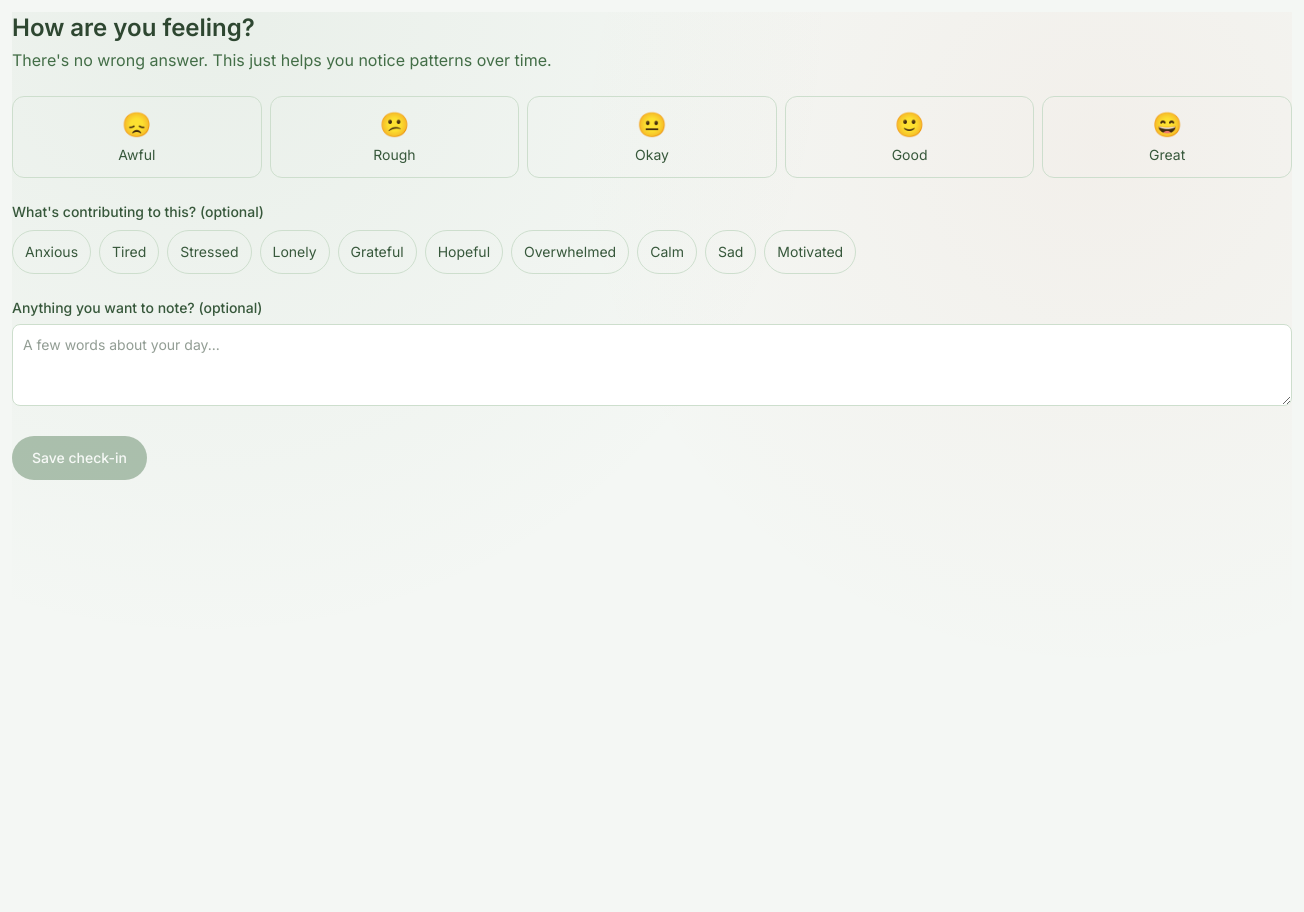
Test: CheckIn page › lets a user log a mood and saves it to the store
The image size is (1304, 912).
Click the radio button labelled "😐 Okay": (652, 137) [527, 96, 777, 178]
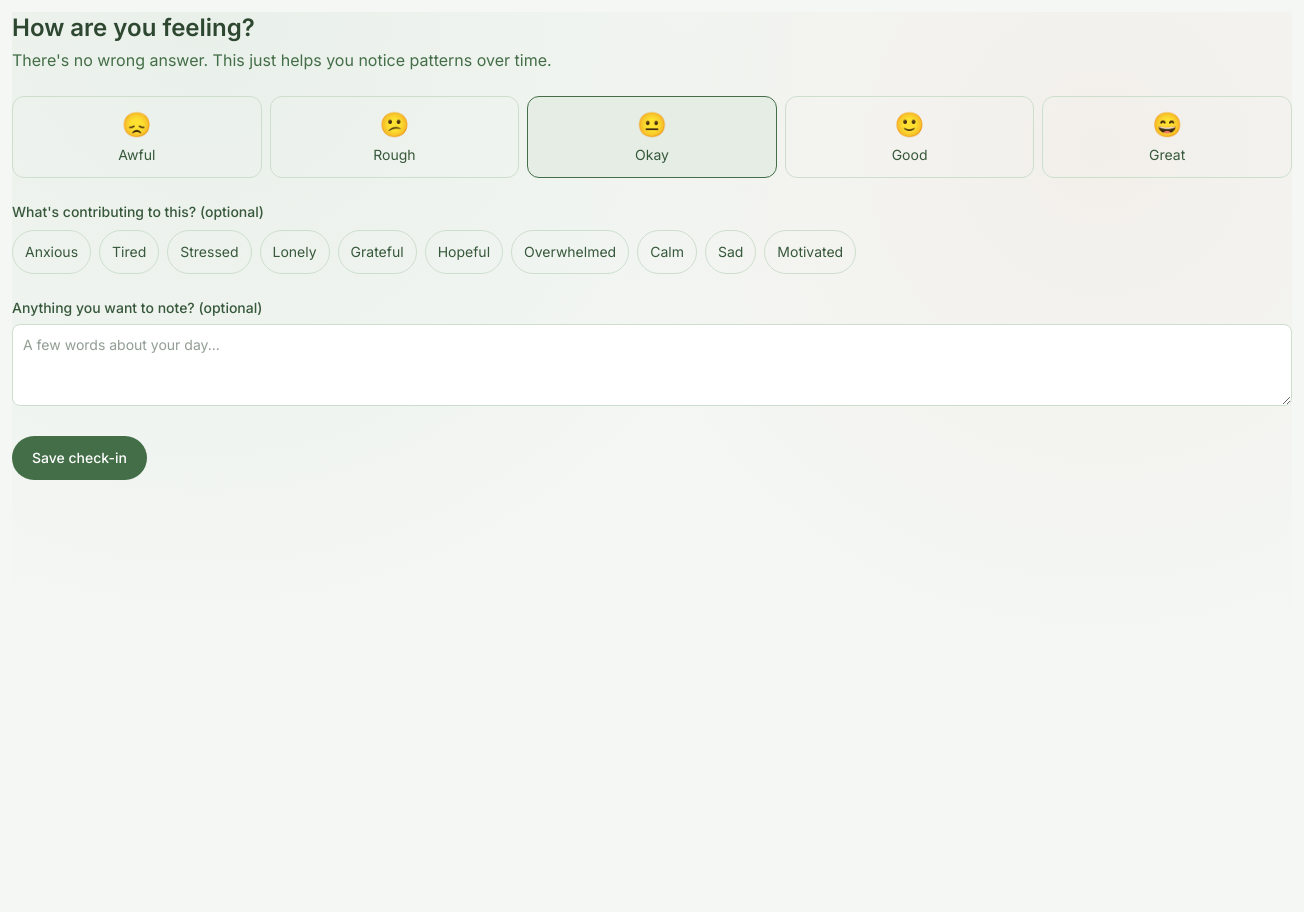
Click the button "Save check-in": (79, 458) [12, 436, 147, 480]
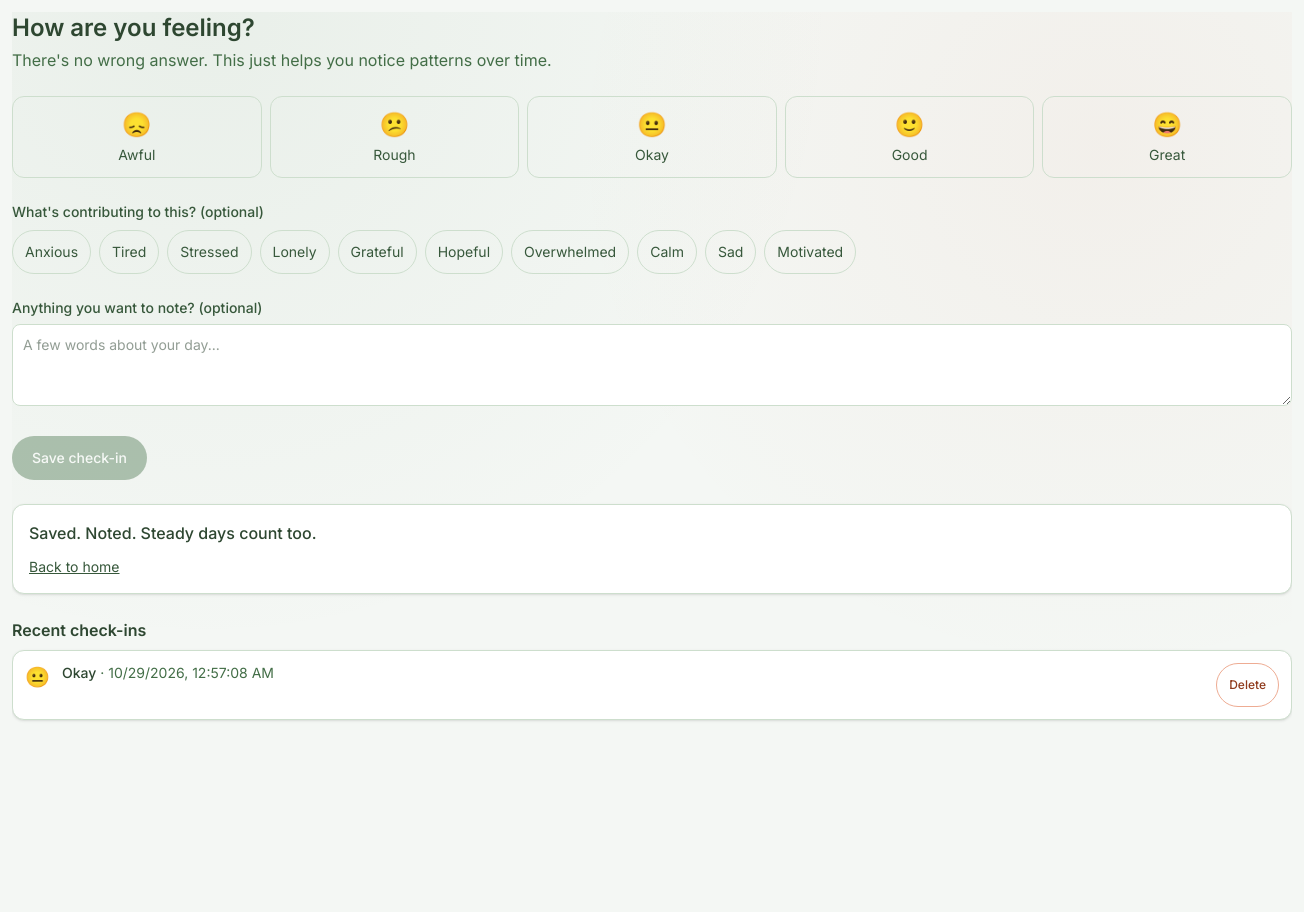
Expected: the message shows "Saved", [29, 523, 85, 543]
